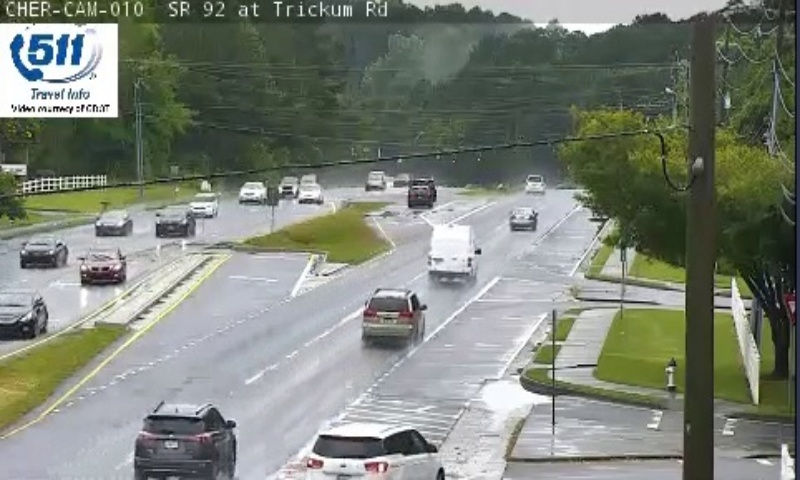car: (136, 402, 237, 480), (363, 290, 423, 341), (511, 207, 536, 232)
van: (428, 225, 476, 279)
